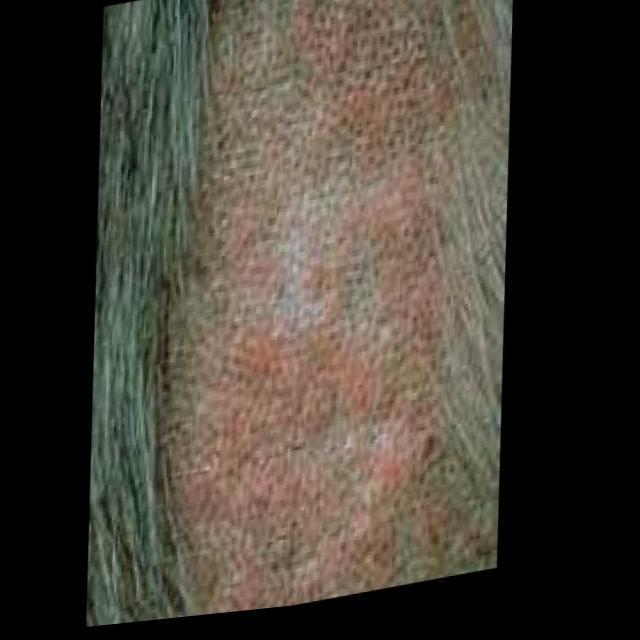allergic dermatitis: (169, 1, 433, 601)
